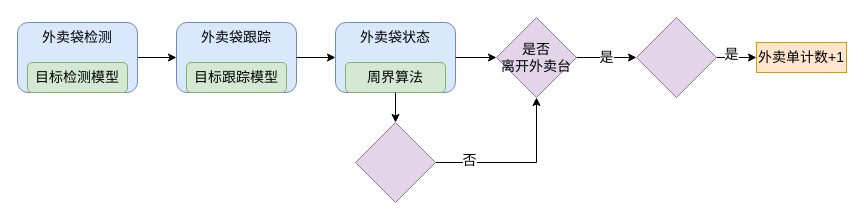
This 864x220 diagram has some shape labels left out. The shapes that lost their labels are listed below. From the top down, each one's box as (x1, y1, x2, y2) in pixels, then its label:
(636, 16, 716, 98): 是否离开 监控画面
(354, 122, 436, 202): 是否 外部进入？
